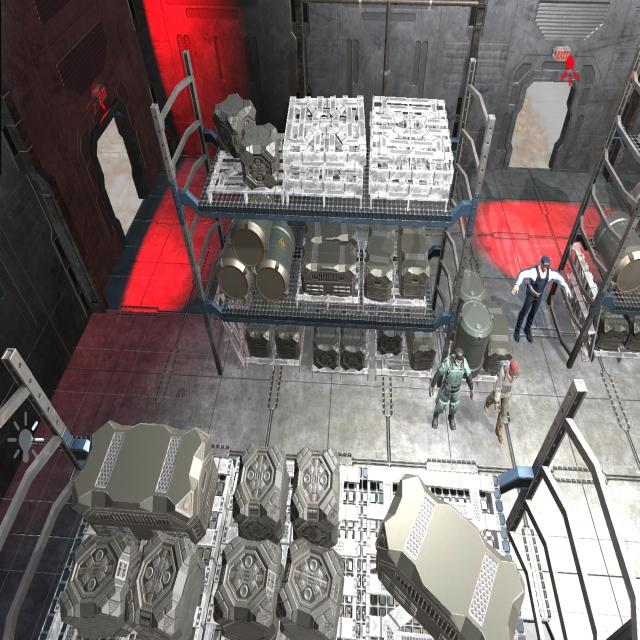thiefs: (484, 358, 522, 448)
